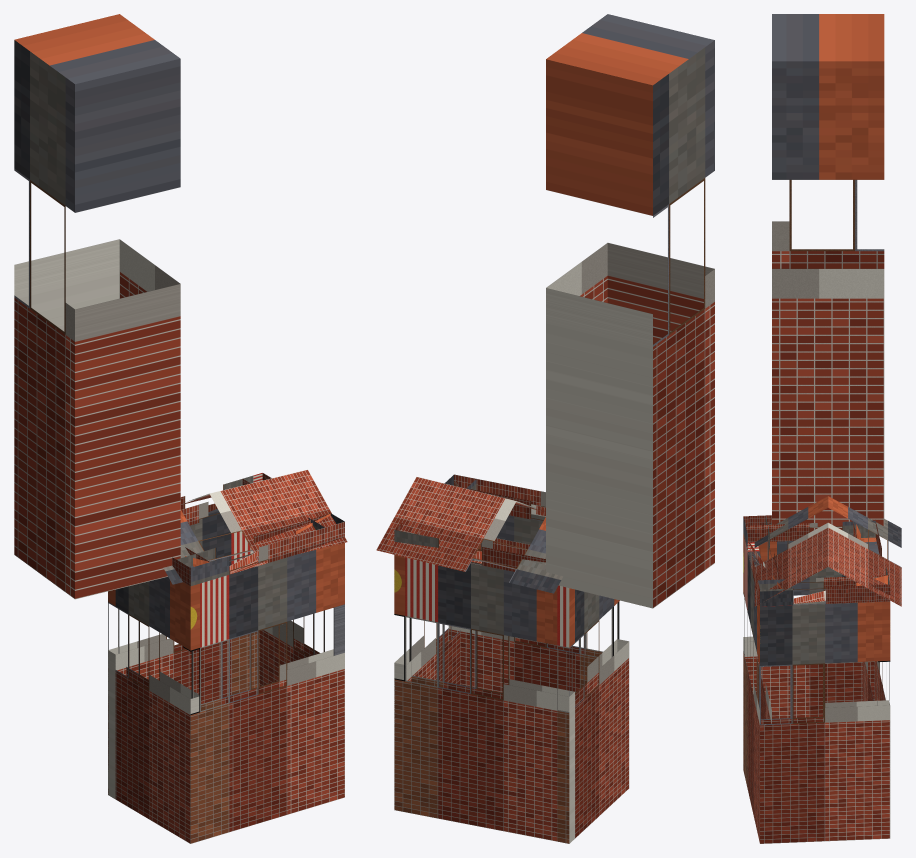
3 renders of one model, left to right at view 1: azimuth 30°, elevation 25°; view 2: azimuth 150°, elevation 25°; view 3: azimuth 270°, elevation 25°, orthographic. The views are drawn at different scales.
Visible parts, largest first — view 1: 238563116__chimney_0_xb, 238563116__wall_1_xb, 238563116__wall_0_xb, 238563116__wall_3_xb, 238563116_roof_-1_xb, 238563116__cornice_1, 238563116__wall_2_xb, 238563116__cornice_3; view 2: 238563116__chimney_0_xb, 238563116__wall_3_xb, 238563116__wall_0_xb, 238563116_roof_1_xb, 238563116__wall_1_xb, 238563116__wall_2_xb, 238563116__cornice_3, 238563116__cornice_1; view 3: 238563116__chimney_0_xb, 238563116__wall_2_xb, 238563116__wall_0_xb, 238563116_roof_1_xb, 238563116__wall_1_xb, 238563116_roof_-1_xb, 238563116__cornice_2, 238563116__cornice_0, 238563116__wall_3_xb, 238563116__cornice_1.
Boxes of the visible parts, x1,y1,x2,y2 form: 238563116__chimney_0_xb: (14,14,180,599); 238563116__wall_1_xb: (183,543,344,843); 238563116__wall_0_xb: (108,577,199,843); 238563116__wall_3_xb: (108,509,259,799); 238563116_roof_-1_xb: (163,469,347,584); 238563116__cornice_1: (177,513,344,585); 238563116__wall_2_xb: (259,604,344,796); 238563116__cornice_3: (180,475,252,525); 238563116__chimney_0_xb: (546,14,714,608); 238563116__wall_3_xb: (394,557,574,843); 238563116__wall_0_xb: (557,585,629,843); 238563116_roof_1_xb: (376,477,563,593); 238563116__wall_1_xb: (448,514,619,692); 238563116__wall_2_xb: (394,555,460,809); 238563116__cornice_3: (394,530,545,571); 238563116__cornice_1: (444,474,545,521); 238563116__chimney_0_xb: (772,14,884,532); 238563116__wall_2_xb: (759,601,890,843); 238563116__wall_0_xb: (743,534,874,718); 238563116_roof_1_xb: (828,496,901,606); 238563116__wall_1_xb: (743,538,771,842); 238563116_roof_-1_xb: (754,496,828,606); 238563116__cornice_2: (758,575,890,606); 238563116__cornice_0: (743,515,875,542); 238563116__wall_3_xb: (863,537,890,752); 238563116__cornice_1: (743,516,782,605).
Size of the model in its own units: 0.3744 by 1.05 by 0.2114.
1 material, 1 textured.
